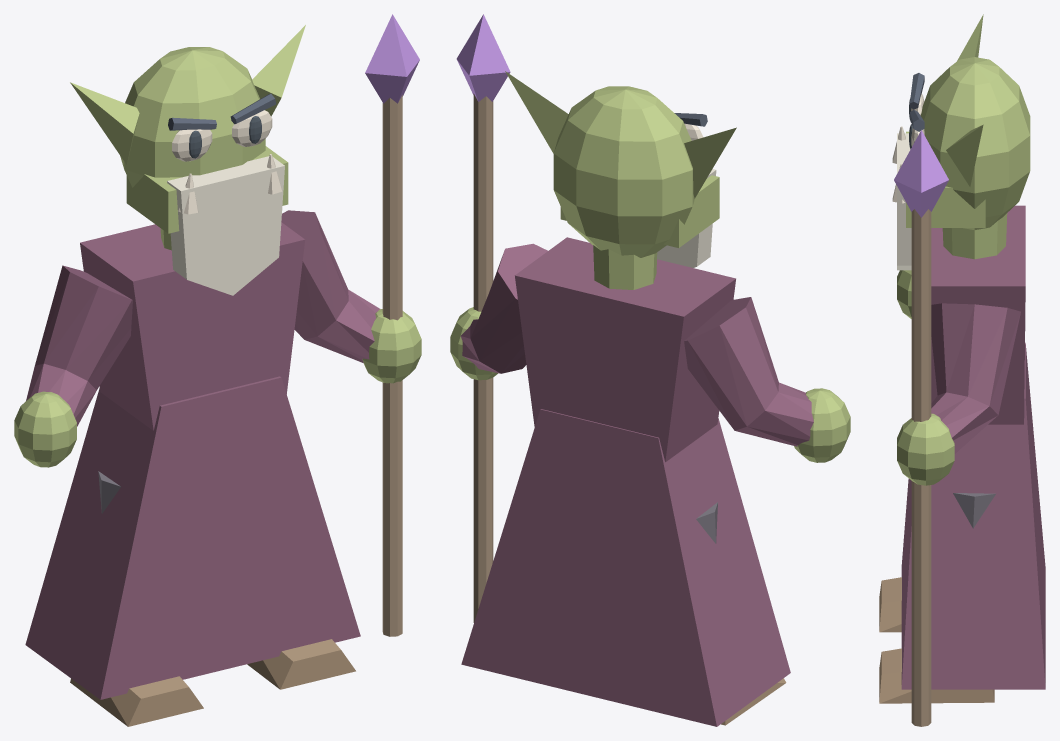
File: shaman.glb
3 renders of one model, left to right at view 1: azimuth 30°, elevation 25°; view 2: azimuth 150°, elevation 25°; view 3: azimuth 270°, elevation 25°, orthographic. The views are drawn at different scales.
Visible parts, largest first — view 1: robe, torso, head, beard, staff, arm_-1, arm_1, hand_-1, foot_-1, hand_1, foot_1, staff_crystal (+5 smaller); view 2: robe, torso, head, arm_-1, staff, arm_1, hand_-1, staff_crystal, neck, jaw, ear_1, ear_-1 (+2 smaller); view 3: robe, head, arm_1, staff, torso, hand_1, staff_crystal, foot_1, neck, jaw, beard, foot_-1 (+5 smaller).
Part boxes in pixels (<box>): robe: <box>25,376,360,699</box>; torso: <box>80,222,305,430</box>; head: <box>120,47,265,187</box>; beard: <box>167,156,284,295</box>; staff: <box>382,95,402,636</box>; arm_-1: <box>26,265,132,426</box>; arm_1: <box>281,210,380,363</box>; hand_-1: <box>14,391,76,467</box>; foot_-1: <box>70,676,203,726</box>; hand_1: <box>362,309,421,383</box>; foot_1: <box>247,639,355,689</box>; staff_crystal: <box>365,14,419,103</box>; robe: <box>461,409,790,726</box>; torso: <box>514,237,735,462</box>; head: <box>553,86,694,257</box>; arm_-1: <box>684,297,813,446</box>; staff: <box>473,93,493,622</box>; arm_1: <box>460,243,547,373</box>; hand_-1: <box>794,388,850,462</box>; staff_crystal: <box>456,14,510,101</box>; neck: <box>593,245,657,289</box>; jaw: <box>560,175,719,247</box>; ear_1: <box>505,71,568,153</box>; ear_-1: <box>684,127,736,198</box>; robe: <box>901,342,1045,689</box>; head: <box>920,57,1030,230</box>; arm_1: <box>931,303,1020,453</box>; staff: <box>911,209,931,726</box>; torso: <box>931,205,1025,424</box>; hand_1: <box>897,413,954,485</box>; staff_crystal: <box>894,130,948,217</box>; foot_1: <box>879,648,994,703</box>; neck: <box>942,213,1007,259</box>; jaw: <box>906,131,985,227</box>; beard: <box>897,133,911,270</box>; foot_-1: <box>879,577,901,632</box>.
Size of the model in its own units: 1.4 by 2.1 by 0.5264.
